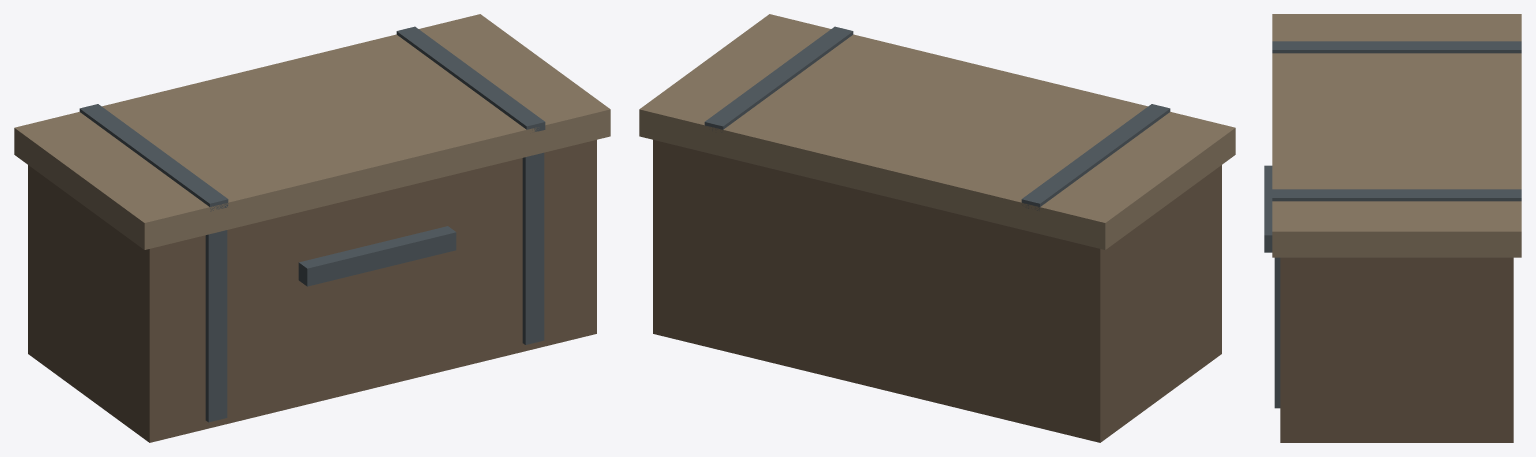
File: vestry_chest.glb
3 renders of one model, left to right at view 1: azimuth 30°, elevation 25°; view 2: azimuth 150°, elevation 25°; view 3: azimuth 270°, elevation 25°, orthographic. The views are drawn at different scales.
Parts seen in each view (by area): view 1: vestry_chest; view 2: vestry_chest; view 3: vestry_chest.
Part boxes in pixels (x1=…): vestry_chest: x1=14, y1=14, x2=610, y2=442; vestry_chest: x1=639, y1=14, x2=1235, y2=442; vestry_chest: x1=1264, y1=14, x2=1521, y2=442.
Bounding box in the file's own units: 1.92 × 0.9 × 0.96.
